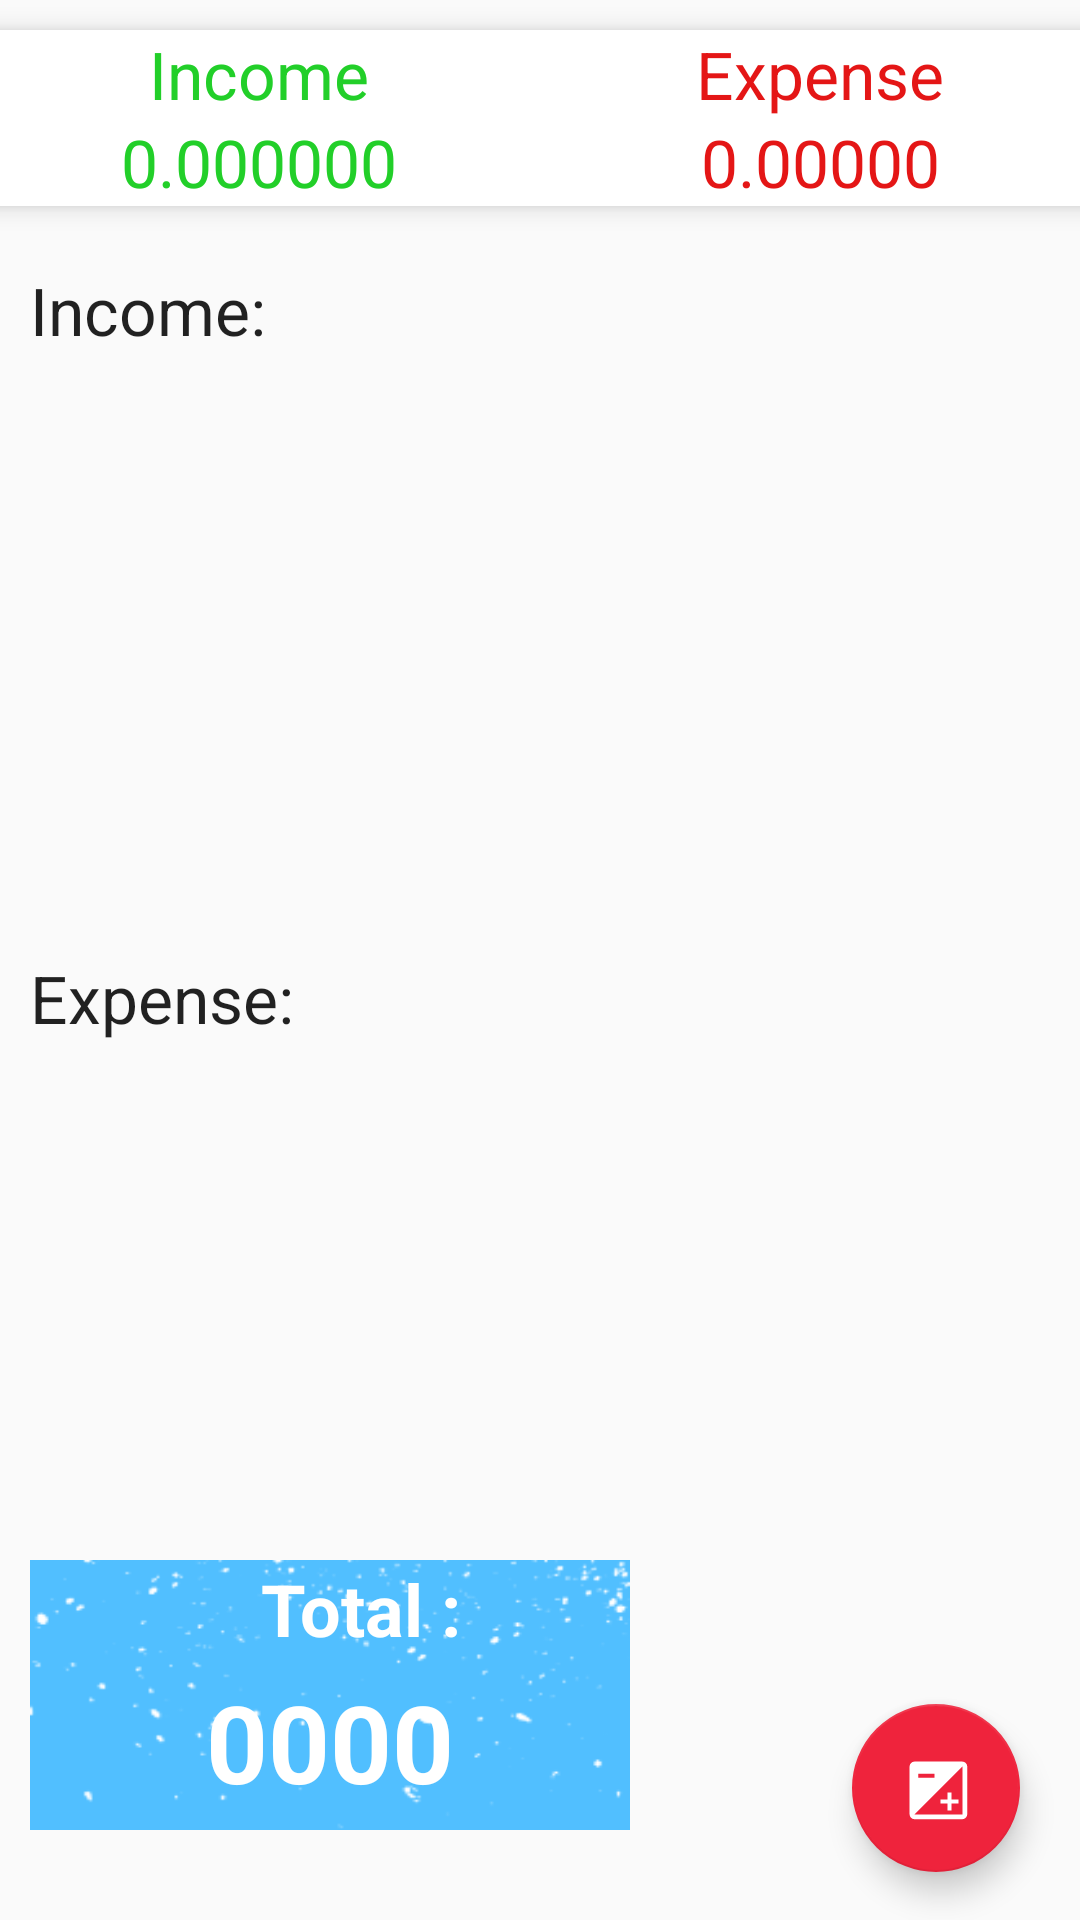

Where icons sit on this 1080*1920 app screen, as (x1, y1, x2, y2):
plus minus: (852, 1704, 1020, 1872)
